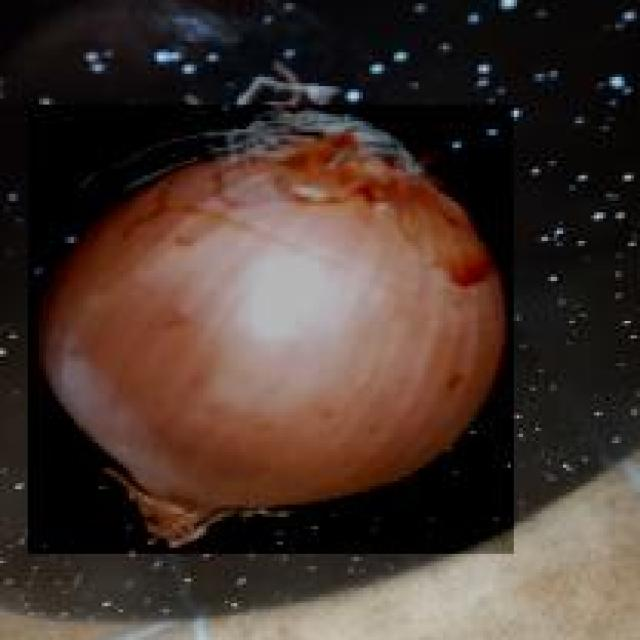onion: (28, 101, 517, 554)
